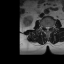CCS_normal: (46, 25, 48, 33)
LFS_stenosis: (50, 25, 52, 30)
LLS_stenosis: (48, 25, 50, 30)
RFS_severe_stenosis: (43, 25, 45, 29)
RLS_stenosis: (45, 25, 46, 30)
